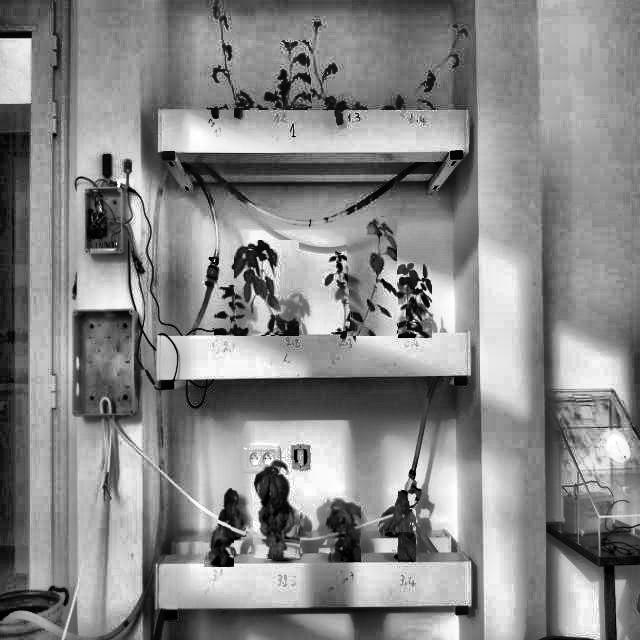plants: (384, 23, 467, 110), (196, 0, 255, 108), (234, 240, 299, 336), (347, 218, 397, 336), (294, 22, 361, 110), (253, 460, 300, 560), (253, 42, 308, 108), (322, 252, 357, 332), (398, 264, 432, 337), (327, 498, 361, 562), (214, 285, 249, 335), (218, 487, 246, 537), (398, 490, 416, 562), (205, 524, 234, 567), (378, 507, 411, 532)
